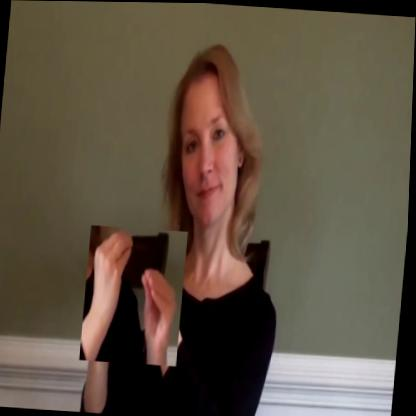Fix: (81, 225, 189, 366)
